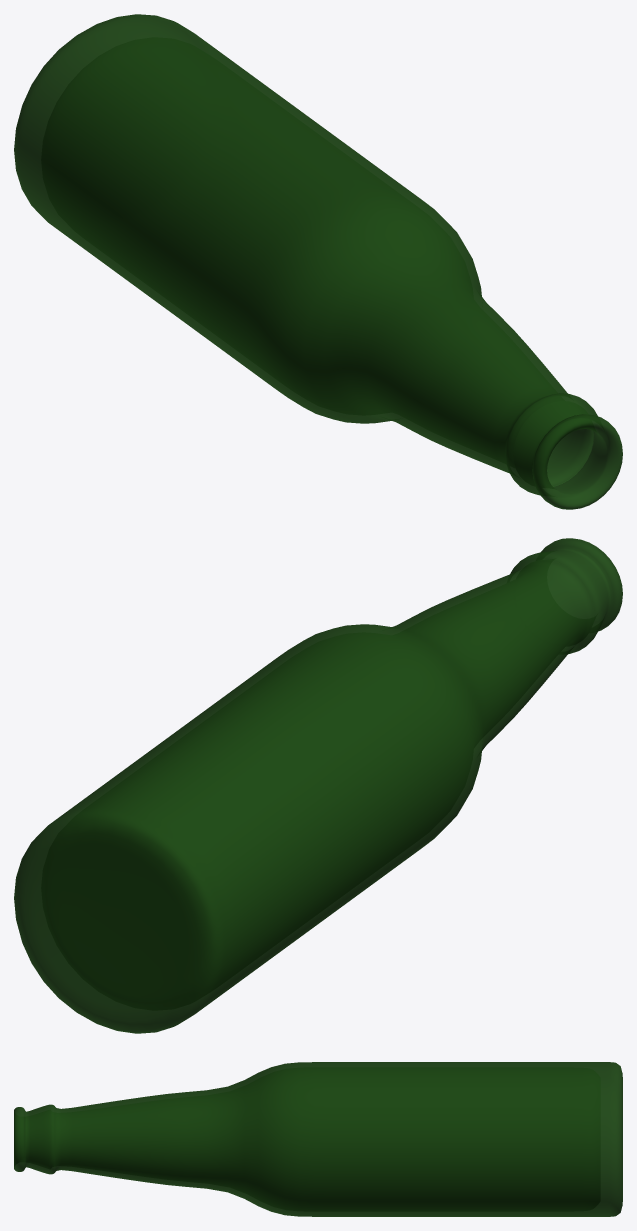
The model's file is beer_bottle.obj.
3 views of the same model, one above another, from view 1: azimuth 30°, elevation 25°; view 2: azimuth 150°, elevation 25°; view 3: azimuth 270°, elevation 25° (orthographic). The views are drawn at different scales.
Parts seen in each view (by area): view 1: Cylinder.001_Cylinder.004; view 2: Cylinder.001_Cylinder.004; view 3: Cylinder.001_Cylinder.004.
Boxes of the visible parts, left/top/right/bottom form: Cylinder.001_Cylinder.004: left=14, top=14, right=622, bottom=509; Cylinder.001_Cylinder.004: left=14, top=538, right=622, bottom=1033; Cylinder.001_Cylinder.004: left=14, top=1062, right=622, bottom=1216.
Bounding box in the file's own units: 0.0637 × 0.0637 × 0.2505.
